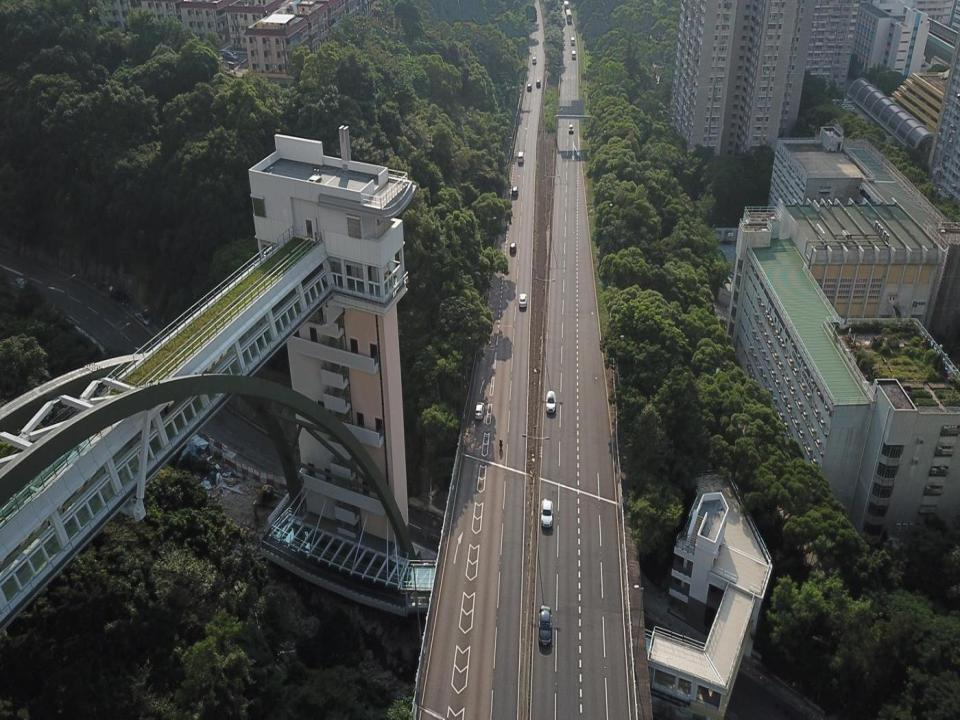bus: (565, 8, 573, 24), (564, 0, 569, 12)
car: (538, 605, 552, 647), (541, 500, 554, 528), (135, 310, 154, 326), (109, 289, 130, 303), (545, 390, 556, 413), (474, 401, 485, 420), (518, 292, 528, 309), (510, 184, 519, 198), (510, 242, 517, 253), (568, 124, 575, 134), (526, 82, 532, 92), (531, 56, 537, 65), (535, 78, 541, 86)
van: (517, 151, 524, 164), (571, 49, 576, 62), (570, 36, 575, 46)
